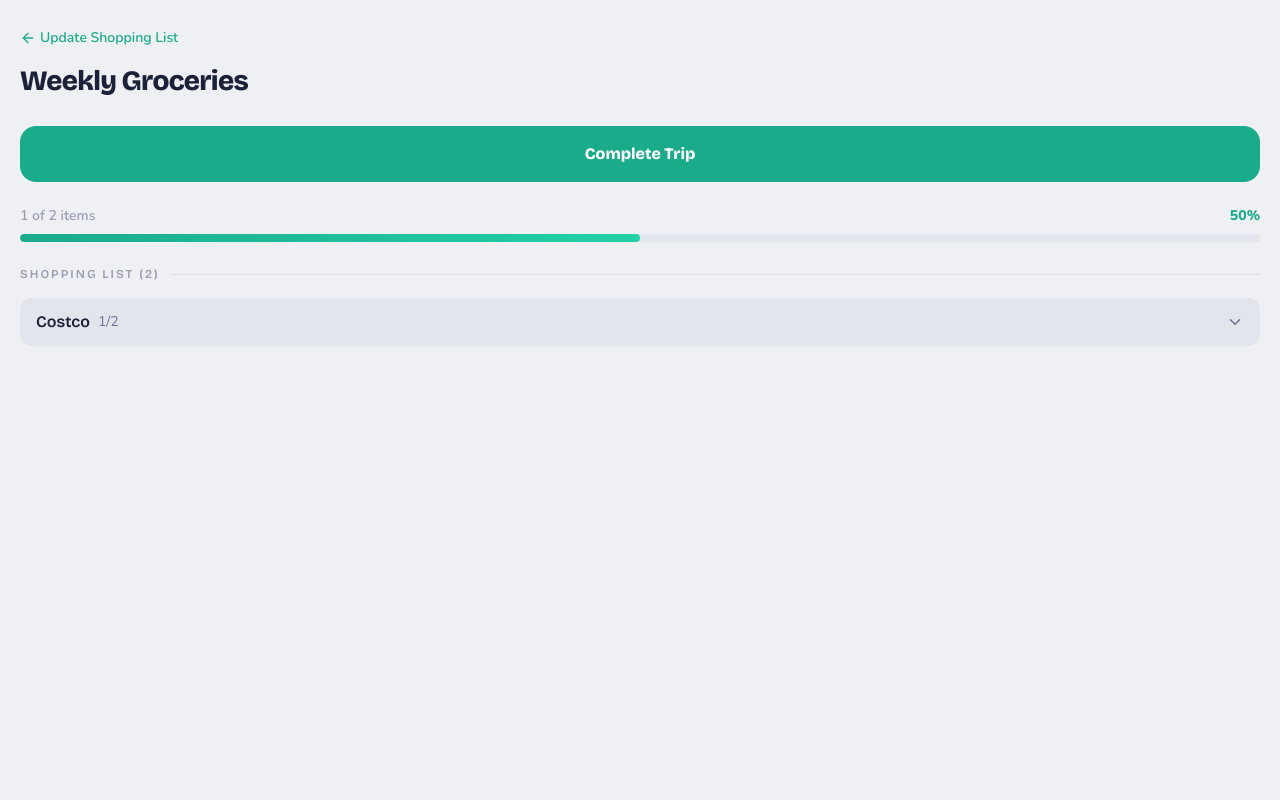
Scenario: ActiveTripPage › shows styled confirmation dialog when completing with unchecked items
Click the button "Complete Trip".
click(640, 154)  # box [20,126,1260,182]
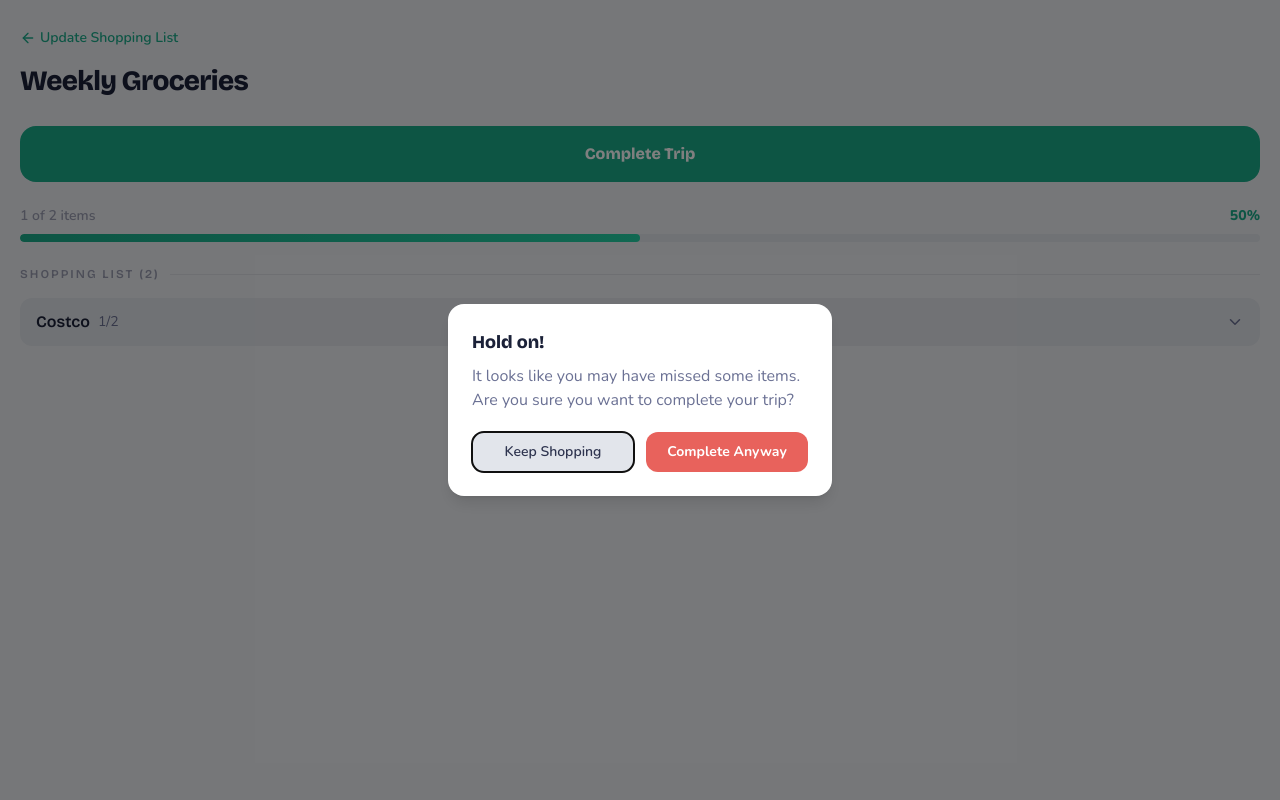
Now the heading "Hold on!" is shown, box [472,331,544,353]
Now the text "It looks like you may have missed some items. Are you sure you want to complete your trip?" is shown, box [472,365,800,411]
Now the button "Complete Anyway" is shown, box [646,432,808,472]
